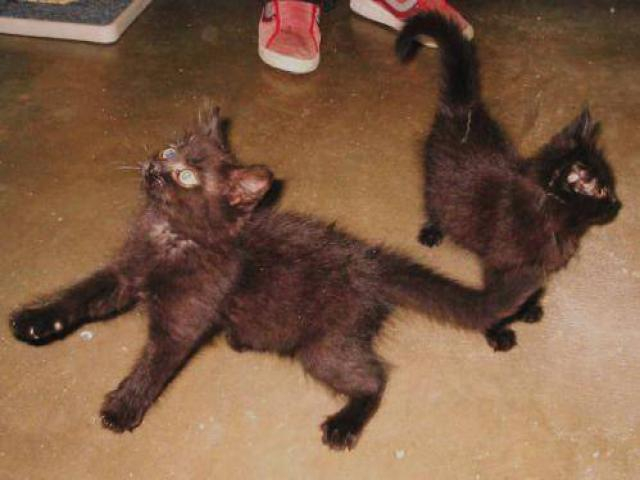cat: (13, 23, 622, 437)
